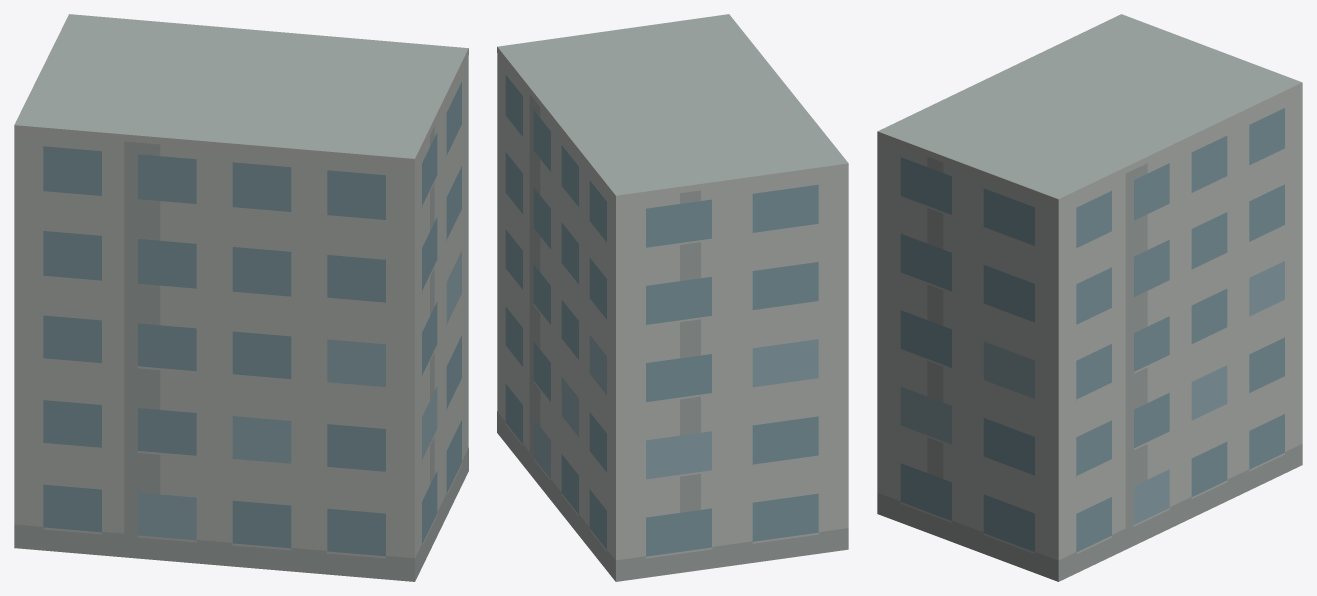
File: survey-upis-32527158.glb
3 renders of one model, left to right at view 1: azimuth 30°, elevation 25°; view 2: azimuth 150°, elevation 25°; view 3: azimuth 270°, elevation 25°, orthographic. The views are drawn at different scales.
Visible parts, largest first — view 1: survey-upis-32527158.tmp; view 2: survey-upis-32527158.tmp; view 3: survey-upis-32527158.tmp.
Boxes of the visible parts, x1,y1,x2,y2 form: survey-upis-32527158.tmp: [14, 14, 468, 581]; survey-upis-32527158.tmp: [497, 14, 848, 581]; survey-upis-32527158.tmp: [877, 14, 1302, 581].
Size of the model in its own units: 15.12 by 14.55 by 14.66.
